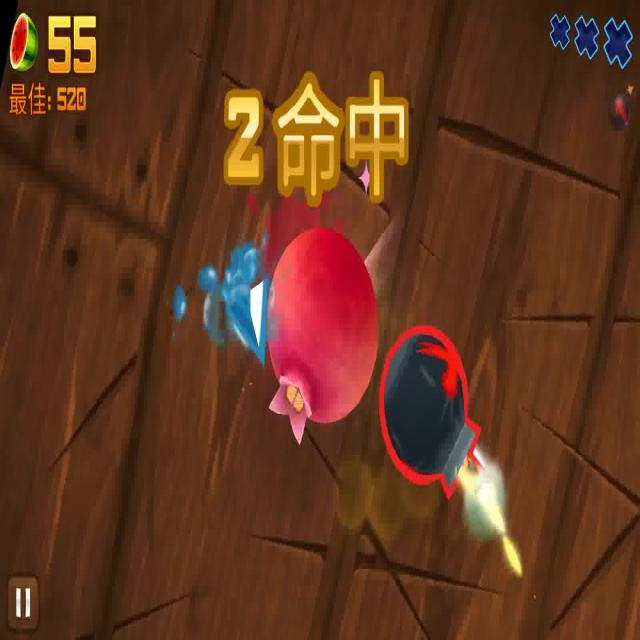bomb: (380, 315, 506, 541)
fruit: (263, 227, 382, 440)
